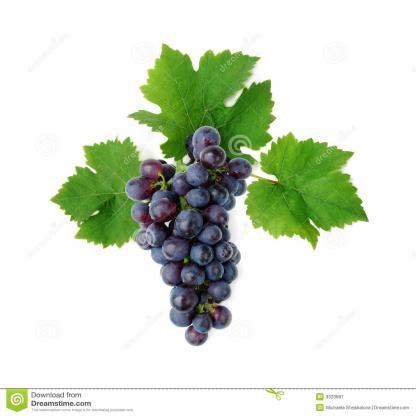grape leaf: (127, 40, 285, 153), (246, 135, 373, 250), (43, 135, 148, 253)
